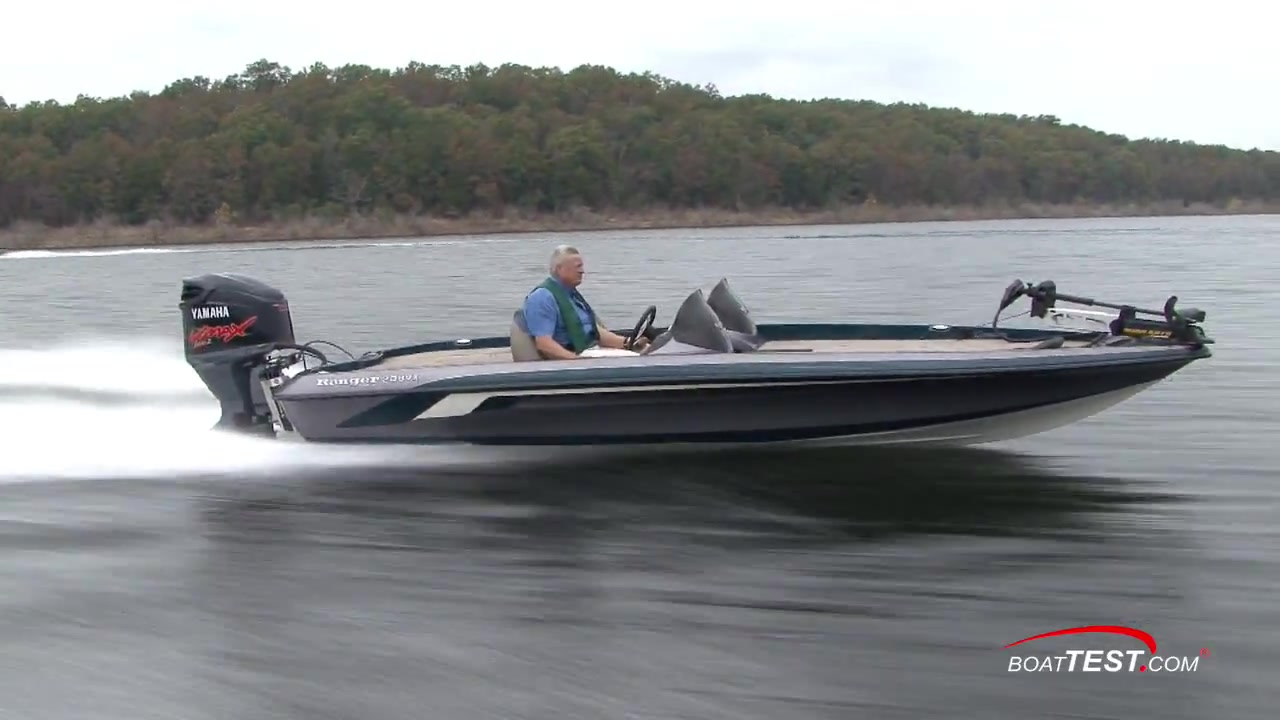boat: (176, 272, 1216, 454)
